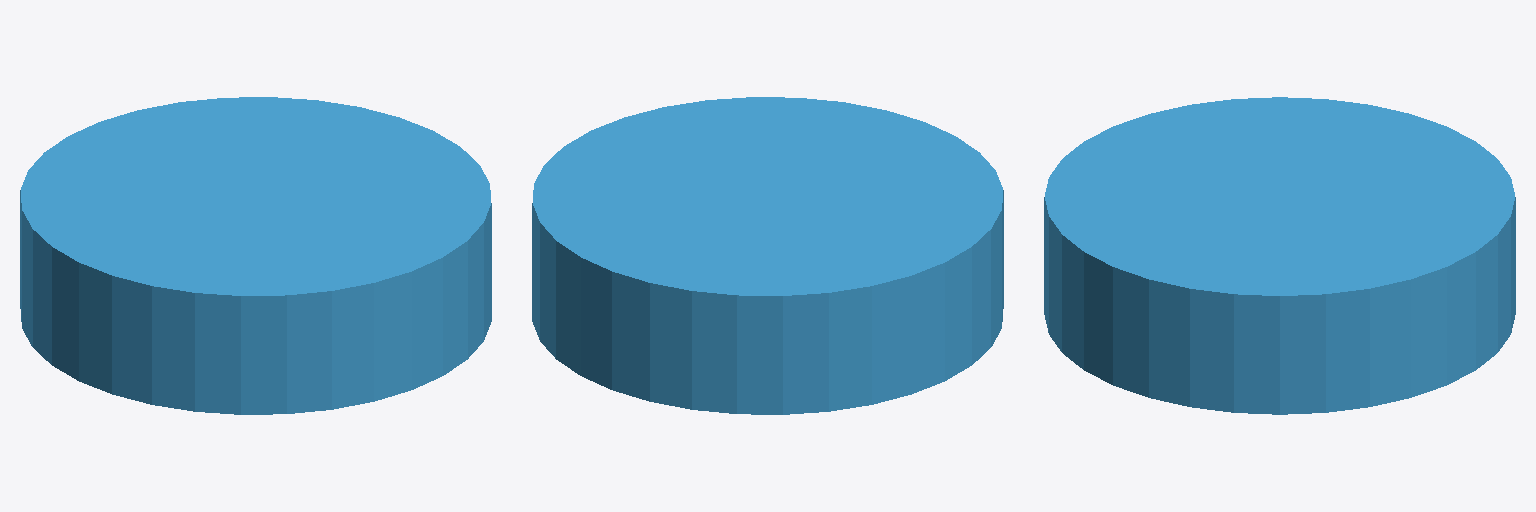
URDF robot description (kobuki):
<?xml version="1.0" ?>
<robot name="kobuki">

  <link name="base_footprint"/>

  <joint name="base_joint" type="fixed">
    <origin xyz="0 0 0.0102" rpy="0 0 0" />
    <parent link="base_footprint"/>
    <child link="base_link" />
  </joint>

  <link name="base_link">
    <visual>
      <geometry>
        <cylinder length="0.1" radius="0.18"/>
      </geometry>
      <origin xyz="0 0 0.05" rpy="0 0 0"/>
    </visual>
    <collision>
      <geometry>
        <cylinder length="0.10938" radius="0.176"/>
      </geometry>
      <origin xyz="0.0 0 0.05949" rpy="0 0 0"/>
    </collision>
    <inertial>
      <mass value="2.4"/>
      <origin xyz="0 0 0"/>
      <inertia ixx="0.0001" ixy="0.0" ixz="0.0"
               iyy="0.0001" iyz="0.0" 
               izz="0.0001" />
    </inertial>
  </link>

  <joint name="wheel_left_joint" type="continuous">
    <parent link="base_link"/>
    <child link="wheel_left_link"/>
    <origin xyz="0.00 0.115 0.025" rpy="-1.5708 0 0"/>
    <axis xyz="0 0 1"/>
  </joint>
  <link name="wheel_left_link">
    <visual>
      <geometry>
        <cylinder length="0.02" radius="0.035"/>
      </geometry>
    </visual>
    <inertial>
      <mass value="0.01"/>
      <origin xyz="0 0 0"/>
      <inertia ixx="0.001" ixy="0.0" ixz="0.0"
               iyy="0.001" iyz="0.0" 
               izz="0.001" />
    </inertial>
  </link>

  <joint name="wheel_right_joint" type="continuous">
    <parent link="base_link"/>
    <child link="wheel_right_link"/>
    <origin xyz="0.00 -0.115 0.025" rpy="-1.5708 0 0"/>
    <axis xyz="0 0 1"/>
  </joint>
  <link name="wheel_right_link">
    <visual>
      <geometry>
        <cylinder length="0.02" radius="0.035"/>
      </geometry>
    </visual>
    <inertial>
      <mass value="0.01"/>
      <origin xyz="0 0 0"/>
      <inertia ixx="0.001" ixy="0.0" ixz="0.0"
               iyy="0.001" iyz="0.0" 
               izz="0.001" />
    </inertial>
  </link>

  <joint name="caster_front_joint" type="fixed">
    <parent link="base_link"/>
    <child link="caster_front_link"/>
    <origin xyz="0.115 0.0 0.007" rpy="-1.5708 0 0"/>
  </joint>
  <link name="caster_front_link">
    <visual>
      <geometry>
        <cylinder length="0.0176" radius="0.017"/>
      </geometry>
    </visual>
    <inertial>
      <mass value="0.01"/>
      <origin xyz="0 0 0"/>
      <inertia ixx="0.001" ixy="0.0" ixz="0.0"
               iyy="0.001" iyz="0.0" 
               izz="0.001" />
    </inertial>
  </link>

  <joint name="caster_back_joint" type="fixed">
    <parent link="base_link"/>
    <child link="caster_back_link"/>
    <origin xyz="-0.135 0.0 0.009" rpy="-1.5708 0 0"/>
  </joint>
  <link name="caster_back_link">
    <visual>
      <geometry>
        <cylinder length="0.0176" radius="0.017"/>
      </geometry>
    </visual>
    <inertial>
      <mass value="0.01"/>
      <origin xyz="0 0 0"/>
      <inertia ixx="0.001" ixy="0.0" ixz="0.0"
               iyy="0.001" iyz="0.0" 
               izz="0.001" />
    </inertial>
  </link>

</robot>

--- Facts derived from the render (not from the file) ---
The picture shows the robot from 3 angles, left to right: view 1: azimuth 30°, elevation 25°; view 2: azimuth 150°, elevation 25°; view 3: azimuth 270°, elevation 25°; orthographic projection.
Robot: kobuki — 6 links, 5 joints (2 continuous, 3 fixed); root link base_footprint; default pose: all joints at 0.
Links seen in each view (by area): view 1: base_link; view 2: base_link; view 3: base_link.
Link boxes in pixels (x1=…): base_link: x1=20, y1=97, x2=491, y2=414; base_link: x1=532, y1=97, x2=1003, y2=414; base_link: x1=1044, y1=97, x2=1515, y2=414.
Size in the robot's own frame: 0.36 by 0.36 by 0.11 metres.
Geometry: primitives only (box / cylinder / sphere), no mesh files.